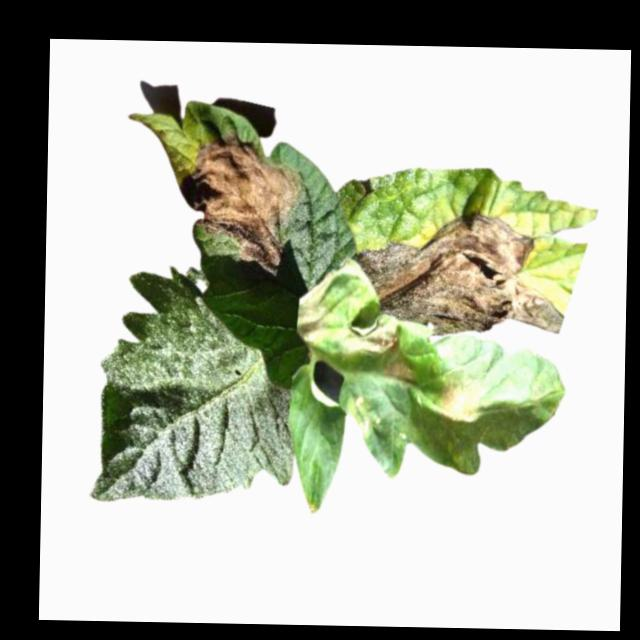Late_blight: (351, 208, 568, 338), (176, 125, 306, 276), (296, 268, 334, 349), (340, 317, 403, 361), (437, 373, 485, 426), (341, 394, 379, 434), (383, 354, 416, 388)
